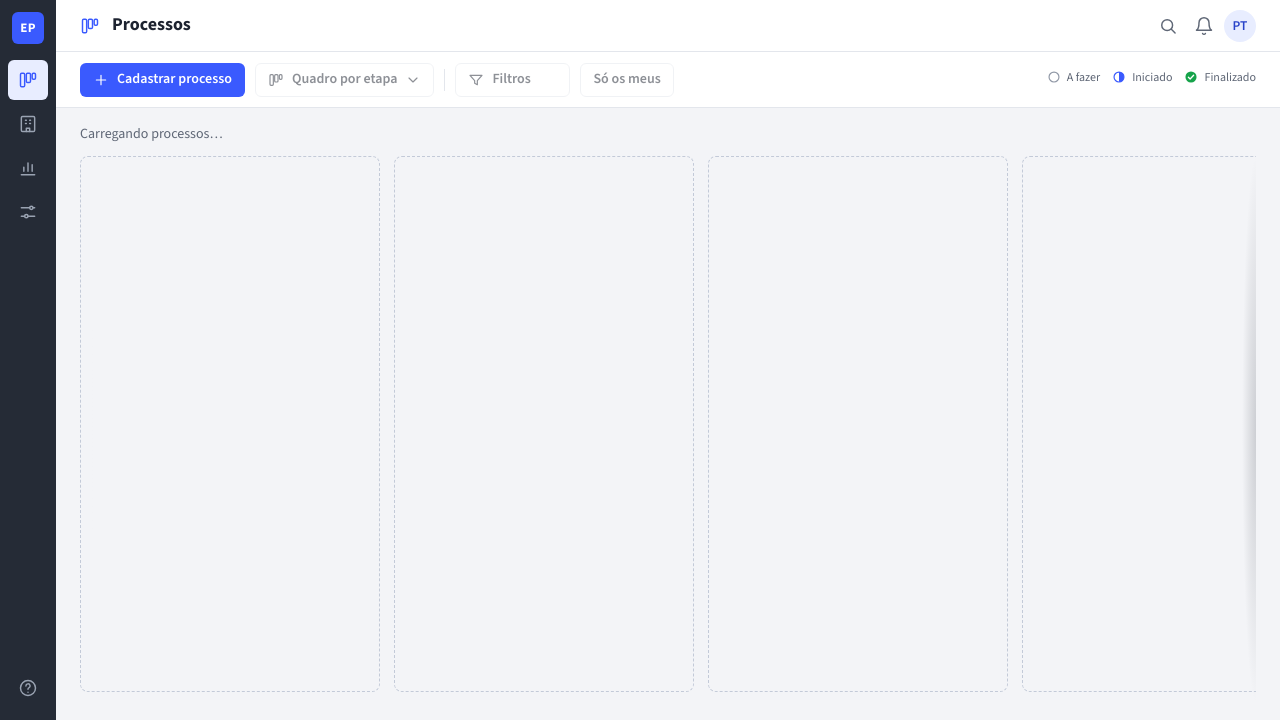
enquanto carrega, mostra "Carregando catálogo…"
This screenshot has width=1280, height=720.
Click the button named "Administração". click: (28, 212)
box: [8,192,48,232]
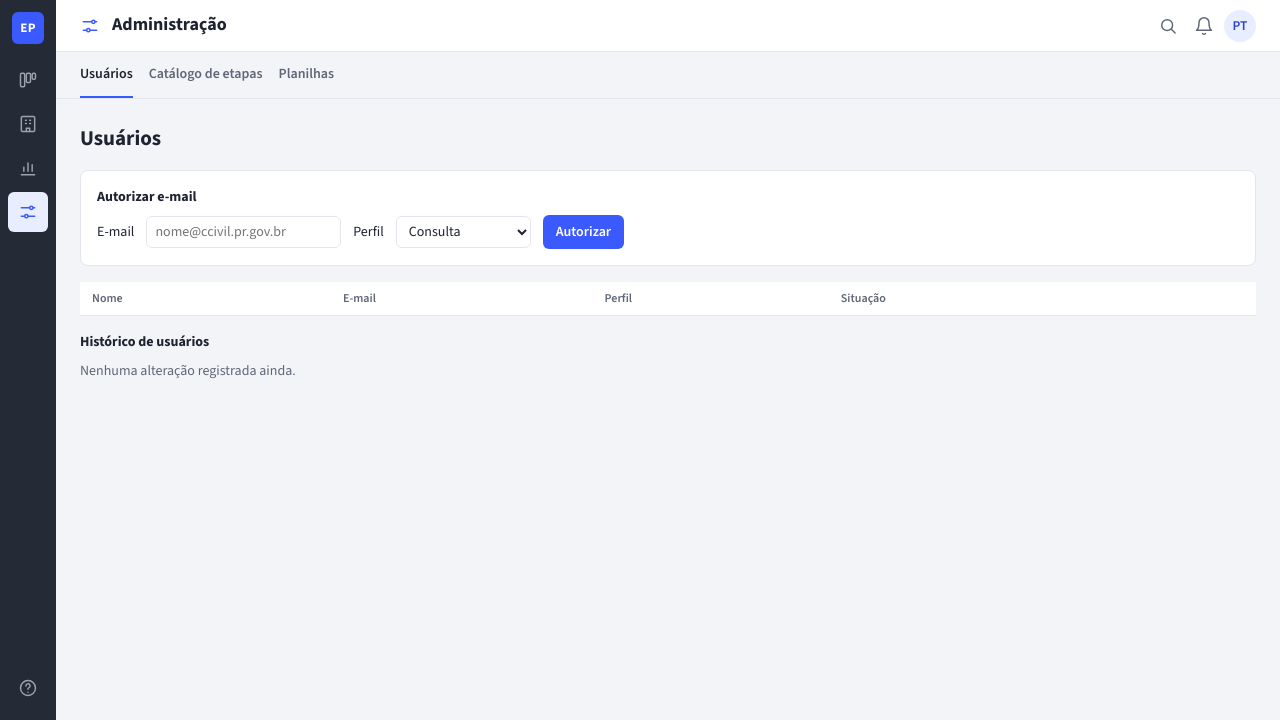
Click the tab "Catálogo de etapas". click: (206, 75)
box: [149,52,262,98]
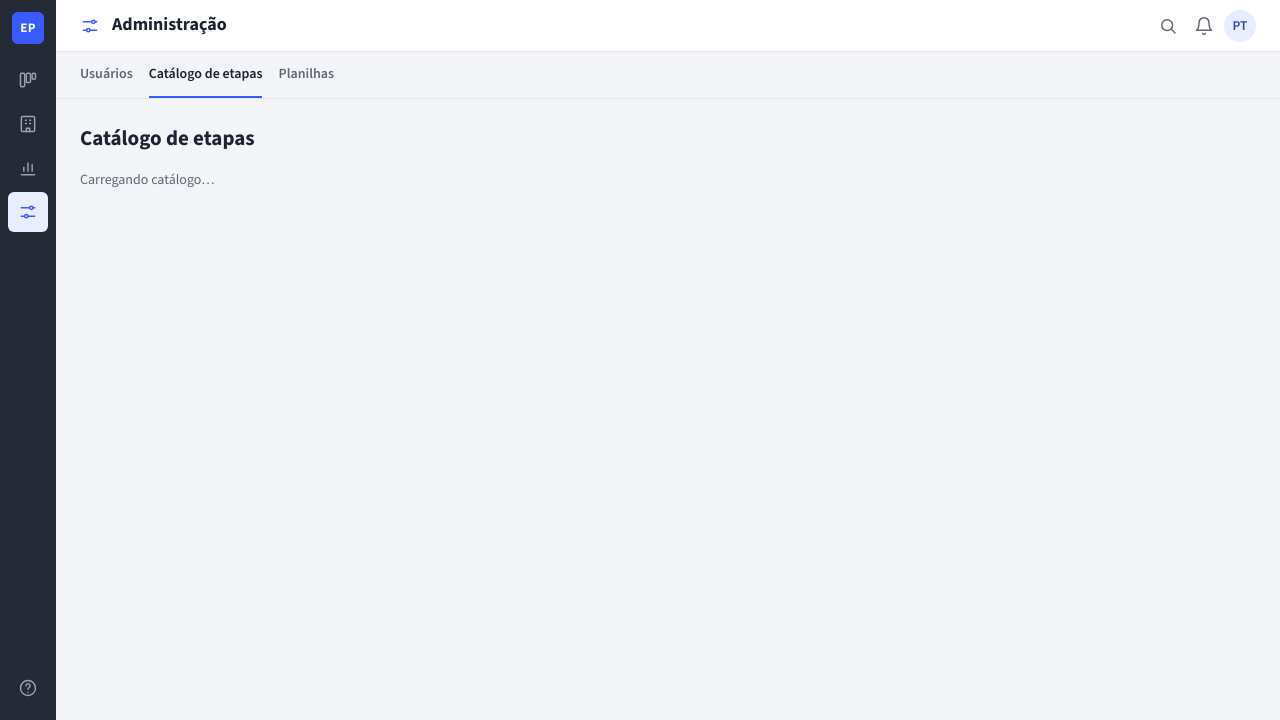
Expected: the text "Carregando catálogo…" is shown, [80,170,214,190]
